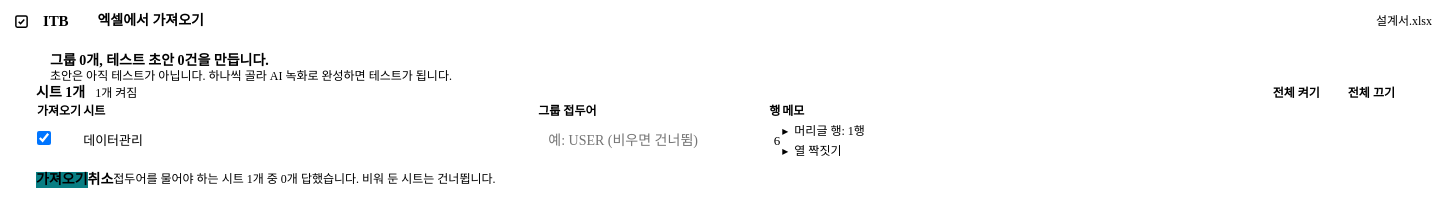
Test case: 접두어를 물어야 하는 시트 › 접두어를 답하면 만들 초안 수가 는다
This screenshot has width=1440, height=205.
Check: the text "그룹 0개, 테스트 초안 0건을 만듭니다." is shown, box [50, 53, 269, 68]
Type "DATA" into the field named "데이터관리 그룹 접두어" at (628, 141), box [538, 130, 718, 152]
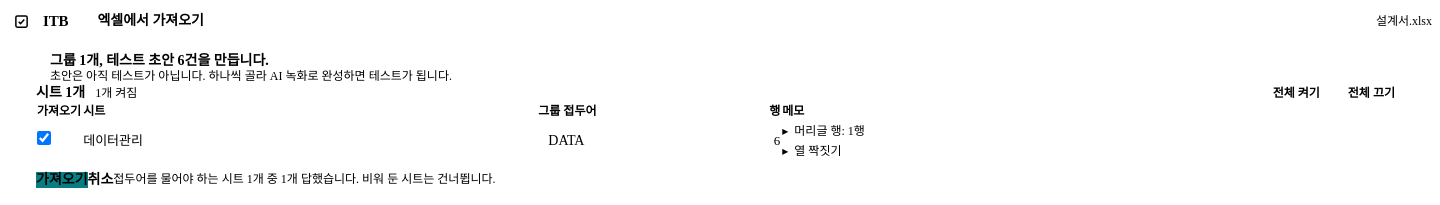
Check: the text "그룹 1개, 테스트 초안 6건을 만듭니다." is shown, box [50, 53, 269, 68]
